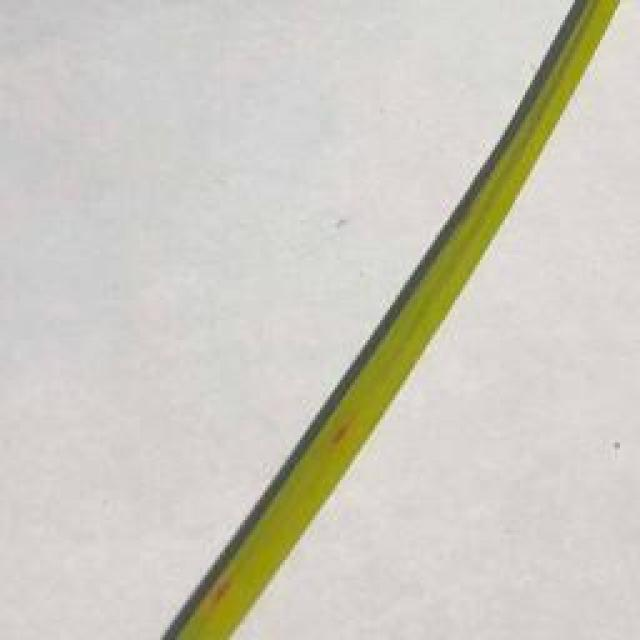Brown_Spot: (187, 565, 243, 622), (340, 413, 353, 448)
